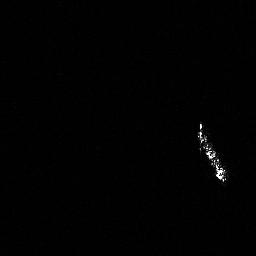ship: (192, 120, 232, 185)
